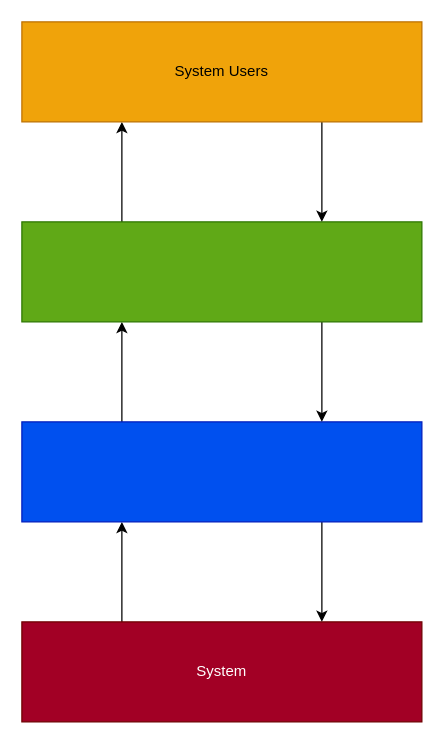
Image size: 444x744. Some labels were removed from this diagram. Each missing label, with the centre of its shape:
"System Applications" belongs at (221,271).
"System Controller" belongs at (221,471).
